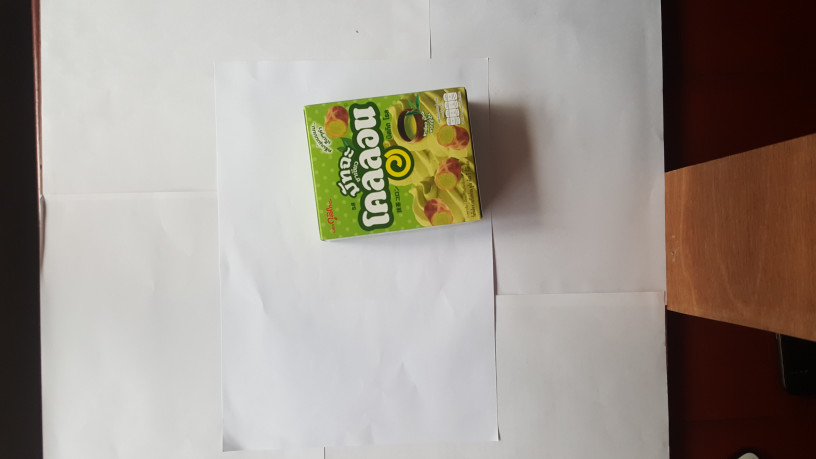collon-matcha: (302, 87, 482, 243)
